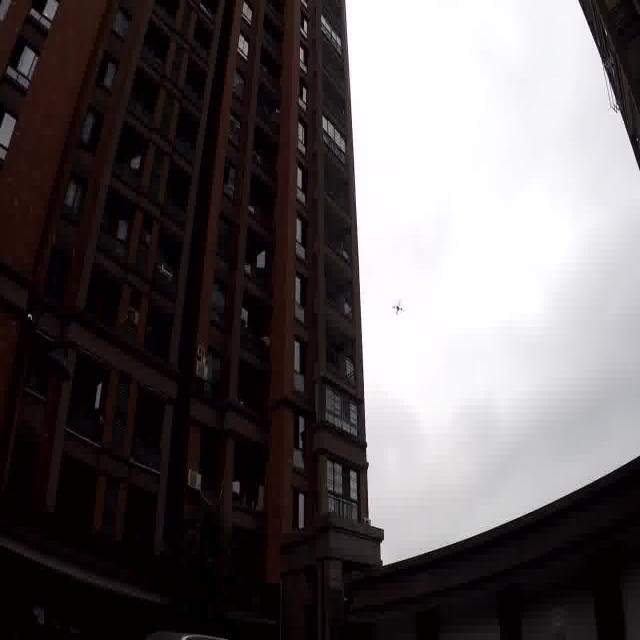drone: (390, 296, 404, 317)
